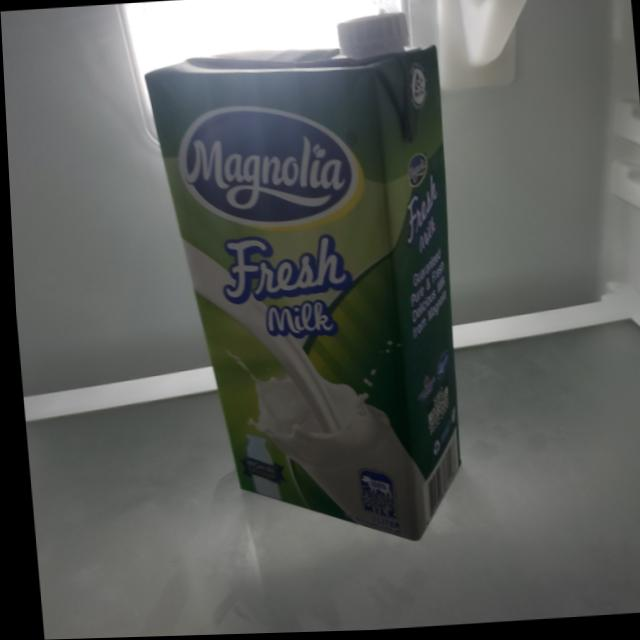milk: (137, 9, 474, 559)
